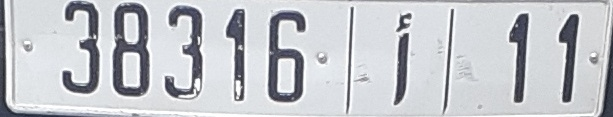1: (221, 3, 252, 105), (554, 10, 583, 108), (503, 10, 529, 107)
3: (160, 3, 207, 102), (59, 0, 104, 99)
6: (266, 8, 307, 107)
8: (110, 0, 153, 99)
a: (387, 9, 416, 108)
